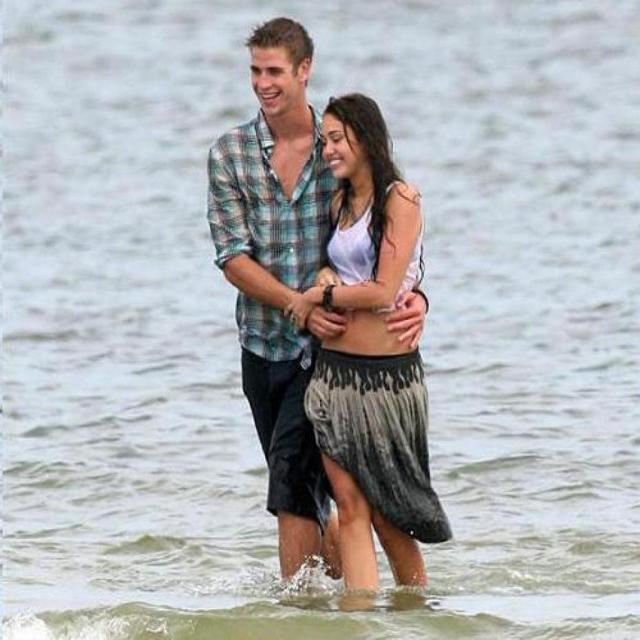Face: (248, 42, 305, 124), (315, 102, 365, 178)
